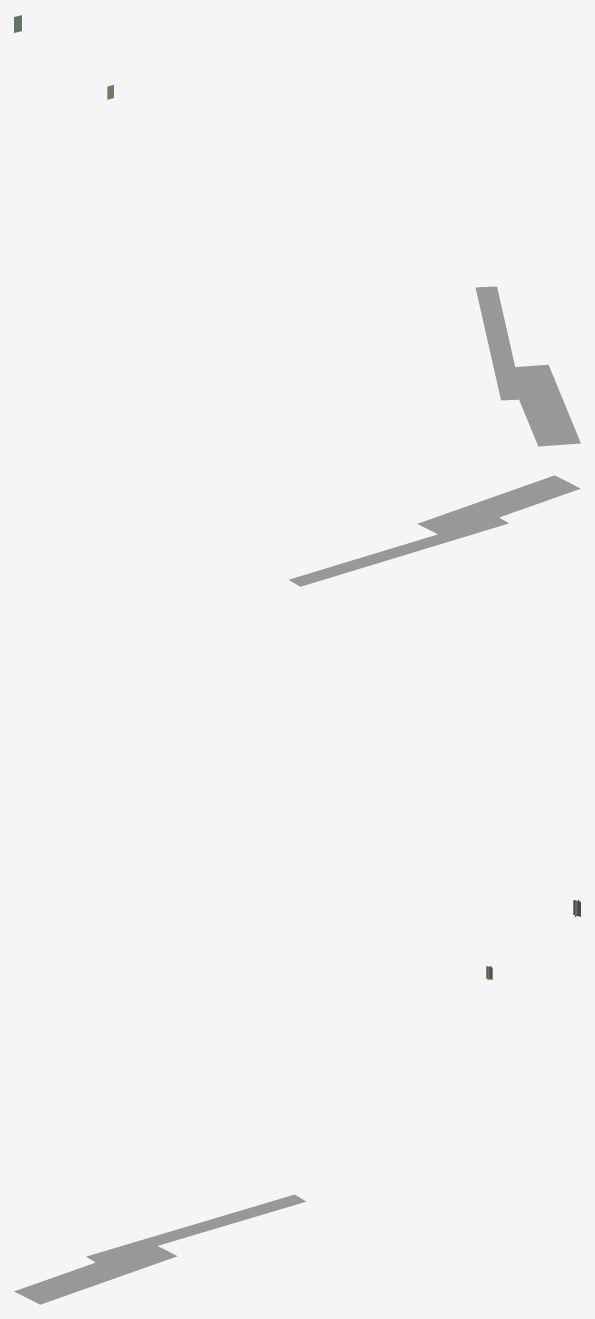
3 views of the same model, one above another, from view 1: azimuth 30°, elevation 25°; view 2: azimuth 150°, elevation 25°; view 3: azimuth 330°, elevation 25° (orthographic). The views are drawn at different scales.
Bounding box in the file's own units: 49.97 × 5.7 × 367.
